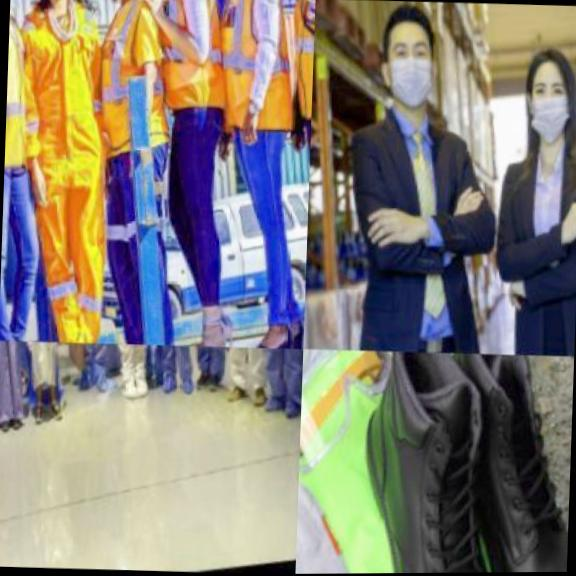safety_vest: (295, 346, 574, 574), (0, 0, 140, 343), (82, 0, 184, 165), (207, 0, 302, 151), (142, 0, 237, 130), (3, 0, 49, 185), (276, 0, 313, 141), (200, 346, 280, 399), (90, 342, 164, 384), (0, 340, 40, 416), (19, 340, 70, 380)
